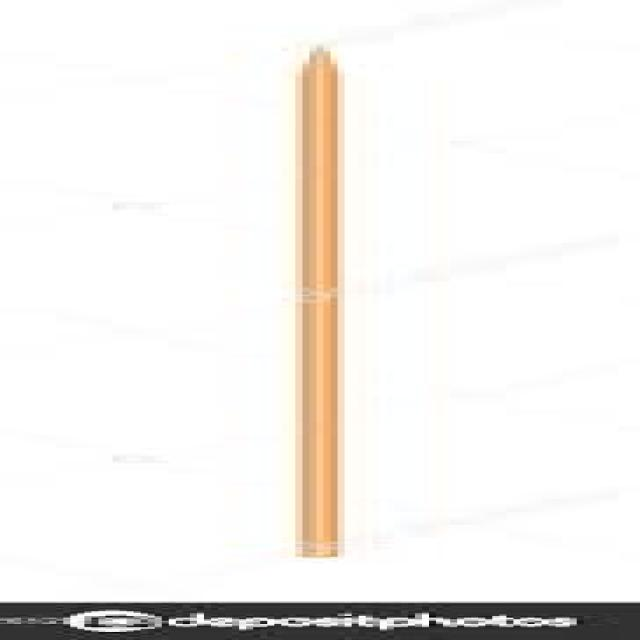stick: (297, 48, 341, 557)
